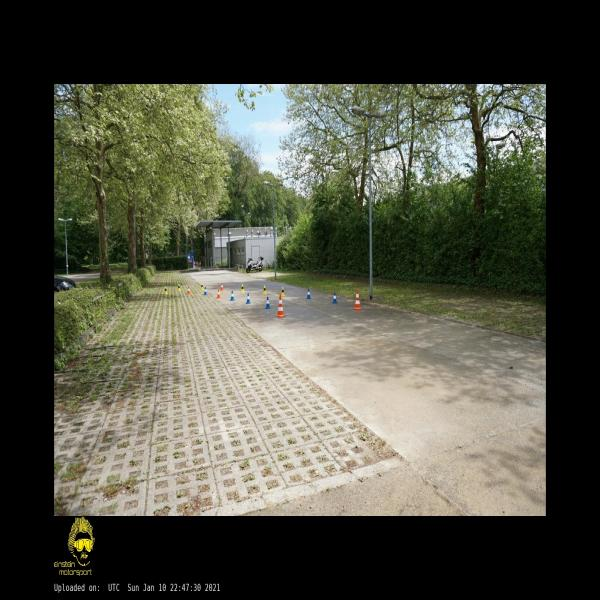blue_cone: (265, 296, 271, 308), (306, 289, 311, 299), (230, 291, 235, 301), (246, 292, 250, 304), (333, 292, 337, 303), (204, 287, 207, 295)
large_orange_cone: (277, 294, 285, 316), (354, 289, 361, 310)
orange_cone: (217, 289, 221, 298), (187, 286, 190, 294), (220, 284, 223, 290)
yellow_cone: (281, 287, 285, 296), (241, 284, 244, 292), (178, 284, 181, 291), (264, 286, 266, 294), (165, 286, 167, 294), (201, 284, 203, 290)
